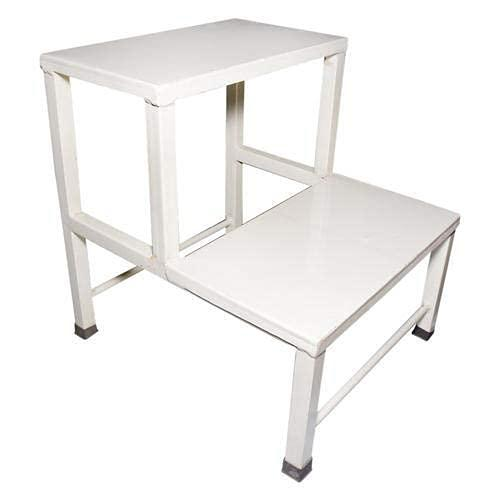stool: (35, 12, 463, 482)
